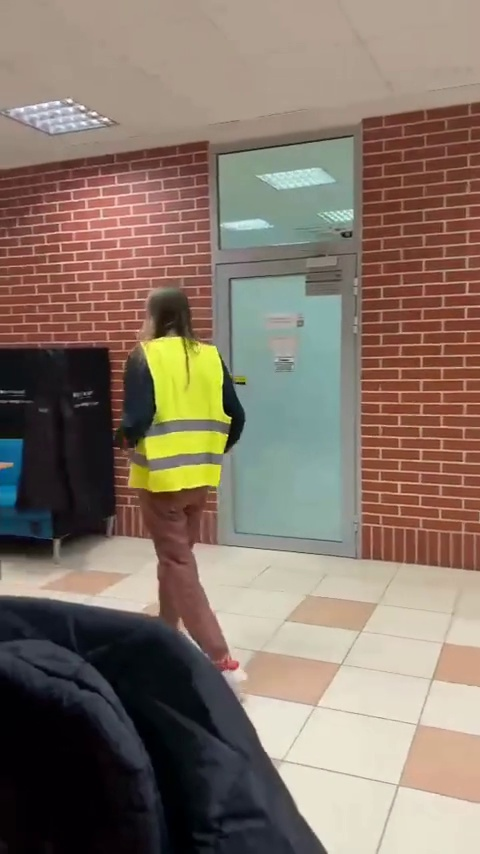vest: (113, 281, 252, 683)
